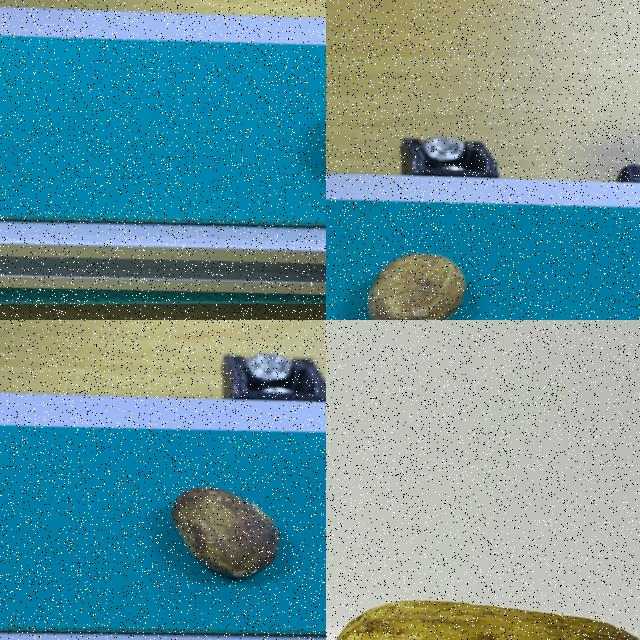Fine_cocoabeans: (64, 459, 325, 611), (326, 223, 578, 319), (326, 572, 639, 639), (204, 70, 325, 240)
